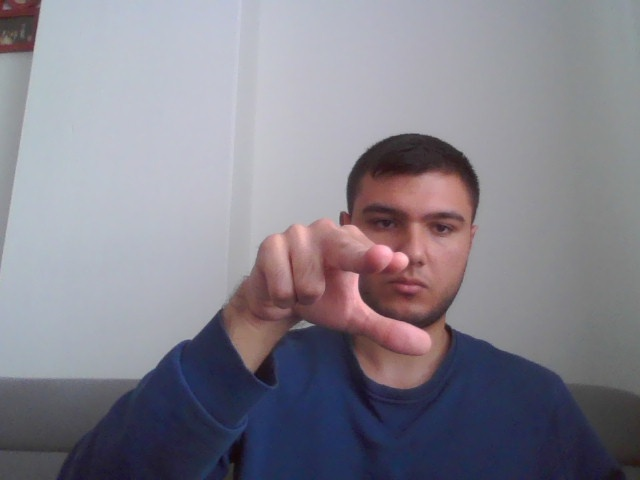no: (242, 218, 435, 360)
